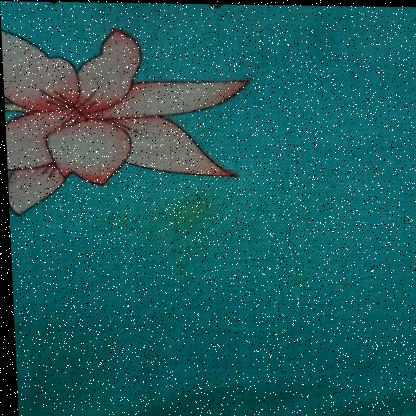spot: (197, 371, 416, 415), (112, 189, 246, 247), (145, 186, 218, 287)
